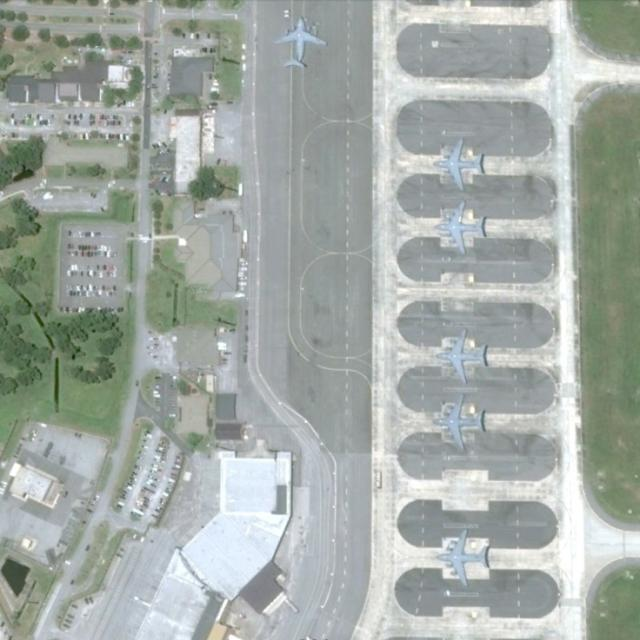fighter jet: (437, 530, 493, 586), (432, 136, 490, 187), (432, 396, 489, 446), (435, 201, 491, 247), (278, 19, 324, 74), (440, 332, 490, 379)
